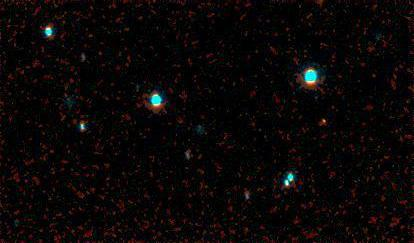star: (307, 107, 337, 137)
